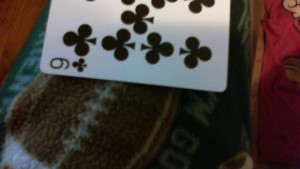NineOfClubs: (36, 1, 241, 93)
